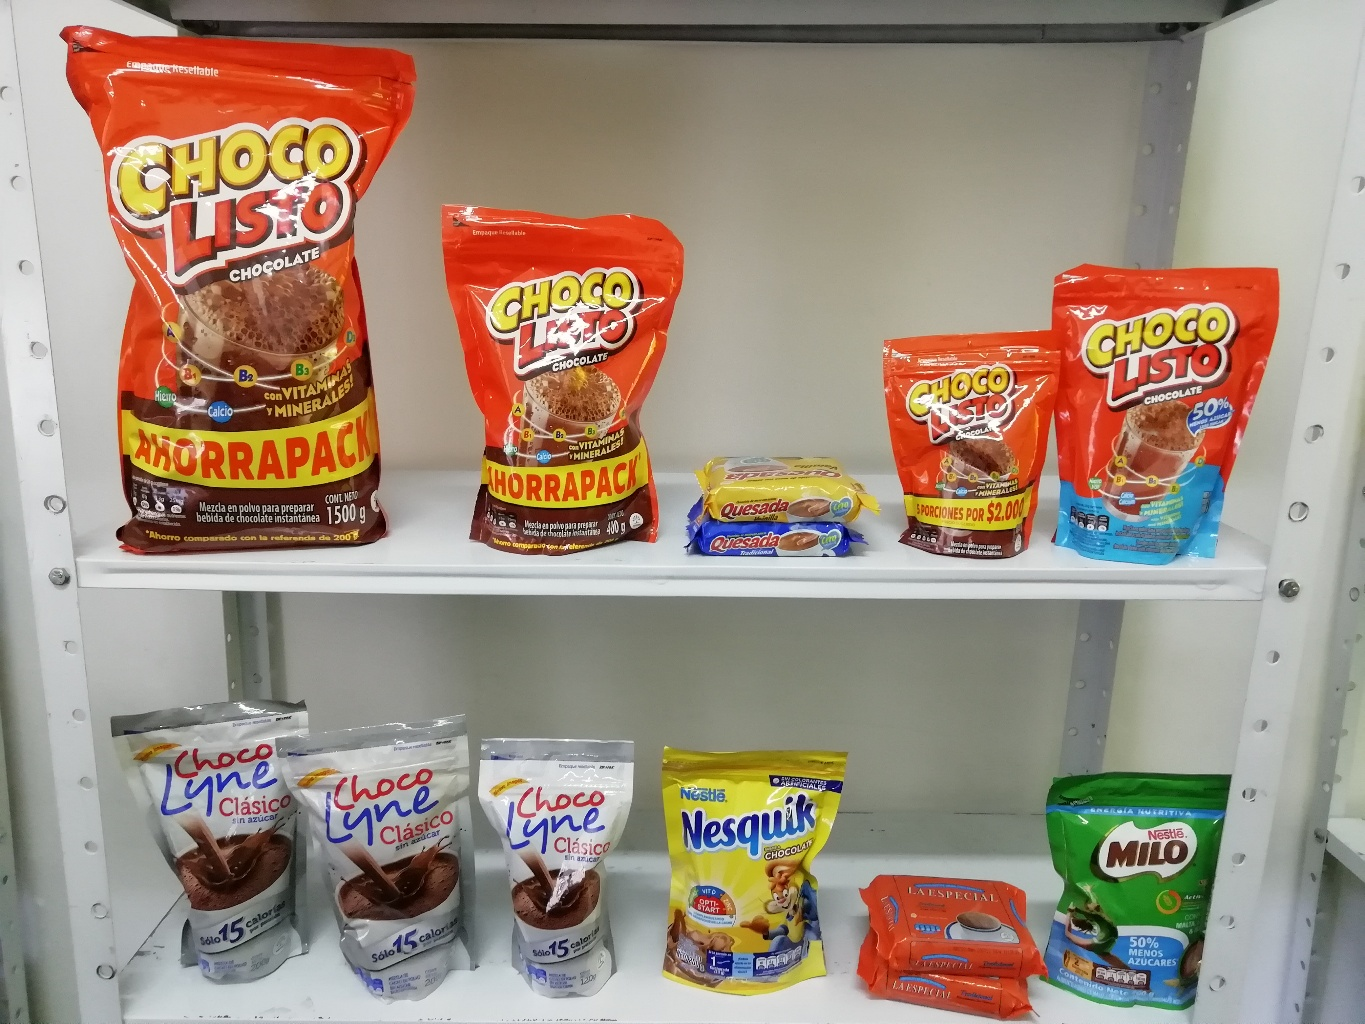COL0170103DYP1,500: (65, 23, 415, 546)
COL0170103DYP10000: (875, 325, 1063, 559)
COL0170103DYP40000: (443, 205, 682, 547)
COL0170104DYP20000: (1051, 257, 1289, 575)
COL0170205DYP20000: (1046, 762, 1234, 1019)
COL0170303DYP20000: (648, 715, 863, 1007)
